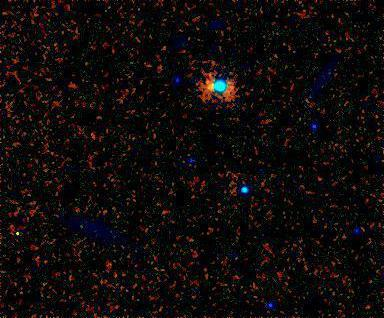star: (195, 74, 225, 104)
